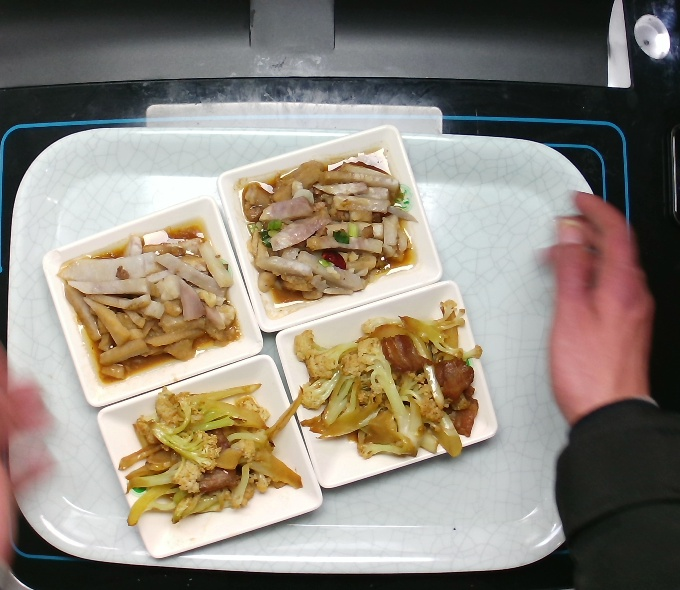wcq-QiuCaiChaoRou: (291, 292, 490, 470), (116, 380, 315, 546)
wcq-YuTou: (49, 214, 241, 379), (238, 149, 419, 308)
